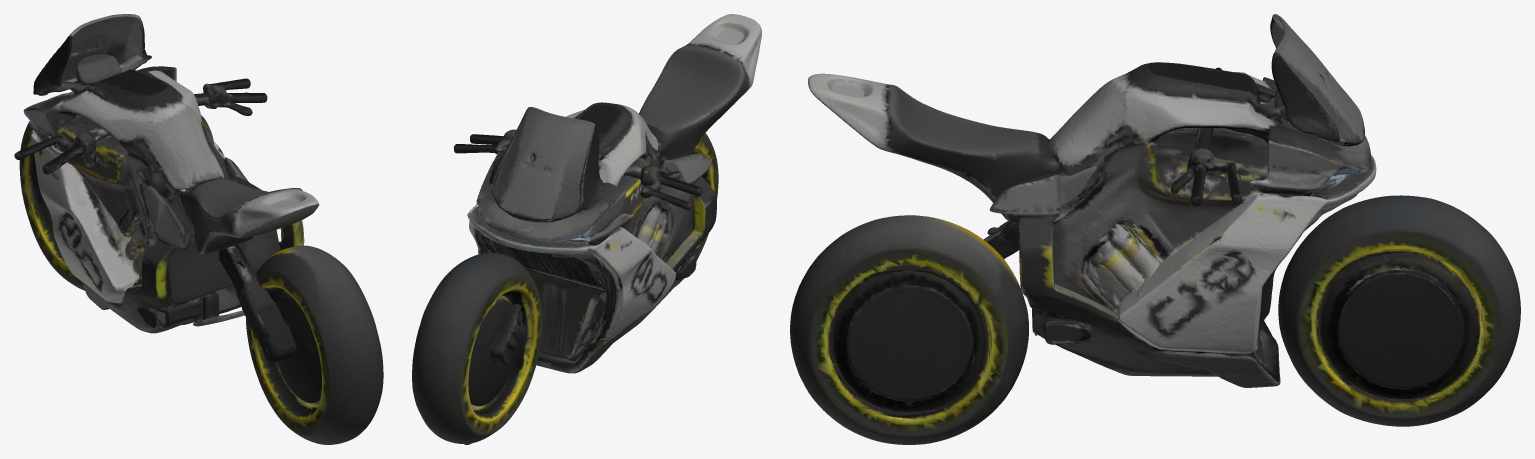
Rendered from bike.glb.
3 renders of one model, left to right at view 1: azimuth 30°, elevation 25°; view 2: azimuth 150°, elevation 25°; view 3: azimuth 270°, elevation 25°, orthographic. The views are drawn at different scales.
Parts seen in each view (by area): view 1: tripo_node_8bdb9312-aa3a-4969-8e35-b41eefa94f6f; view 2: tripo_node_8bdb9312-aa3a-4969-8e35-b41eefa94f6f; view 3: tripo_node_8bdb9312-aa3a-4969-8e35-b41eefa94f6f.
Boxes of the visible parts, left/top/right/bottom form: tripo_node_8bdb9312-aa3a-4969-8e35-b41eefa94f6f: left=14, top=14, right=383, bottom=444; tripo_node_8bdb9312-aa3a-4969-8e35-b41eefa94f6f: left=412, top=14, right=761, bottom=444; tripo_node_8bdb9312-aa3a-4969-8e35-b41eefa94f6f: left=790, top=14, right=1520, bottom=444.
Bounding box in the file's own units: 0.4551 × 0.5699 × 0.9999.
